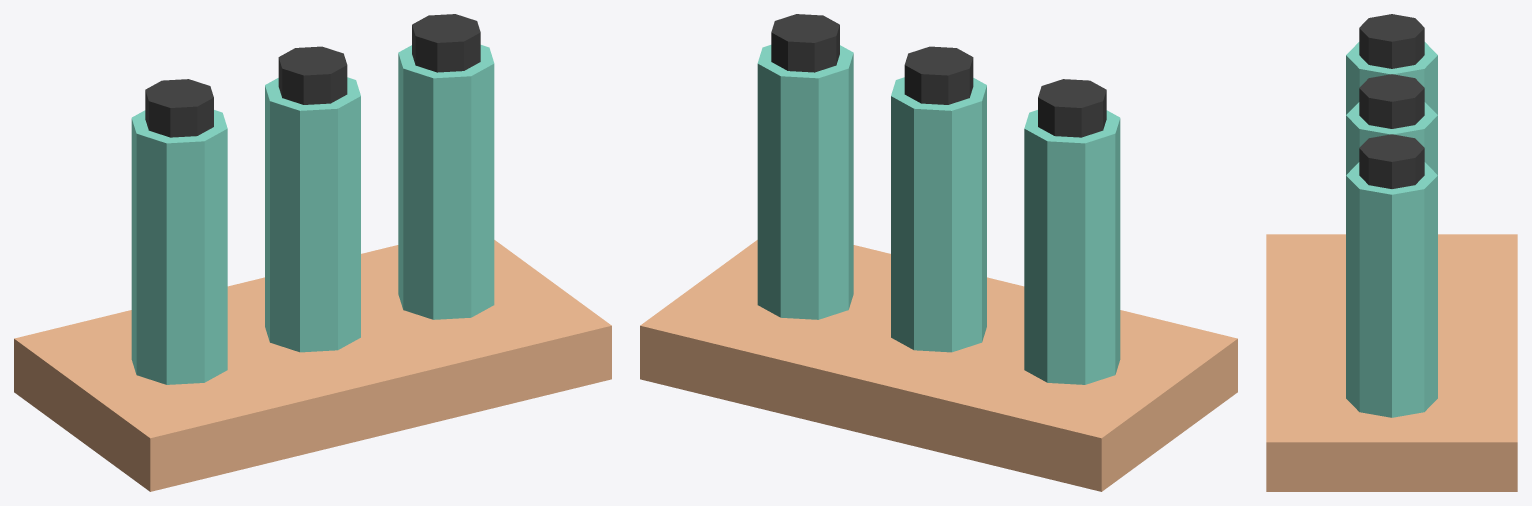
3 views of the same model, side by side, from view 1: azimuth 30°, elevation 25°; view 2: azimuth 150°, elevation 25°; view 3: azimuth 270°, elevation 25° (orthographic). The views are drawn at different scales.
Parts seen in each view (by area): view 1: Tray, Bottle.002, Bottle, Bottle.001, Cap.001, Cap, Cap.002; view 2: Tray, Bottle.002, Bottle, Bottle.001, Cap.001, Cap, Cap.002; view 3: Tray, Bottle.002, Cap, Cap.001, Cap.002, Bottle, Bottle.001.
Part boxes in pixels (x1,y1,x2,y2): Tray: (14, 240, 611, 491); Bottle.002: (398, 45, 494, 319); Bottle: (131, 110, 227, 384); Bottle.001: (265, 77, 360, 352); Cap.001: (278, 46, 347, 104); Cap: (145, 79, 213, 137); Cap.002: (412, 14, 480, 72); Tray: (640, 240, 1237, 491); Bottle.002: (757, 45, 853, 319); Bottle: (1024, 110, 1120, 384); Bottle.001: (891, 77, 986, 352); Cap.001: (904, 46, 973, 104); Cap: (1038, 79, 1106, 137); Cap.002: (771, 14, 839, 72); Tray: (1266, 234, 1517, 491); Bottle.002: (1346, 162, 1437, 417); Cap: (1359, 14, 1424, 68); Cap.001: (1359, 74, 1424, 128); Cap.002: (1359, 134, 1424, 188); Bottle: (1346, 42, 1437, 114); Bottle.001: (1346, 102, 1437, 174).
Size of the model in its own units: 0.45 by 0.3025 by 0.23.
Materials: 1 (1 with a texture image).
